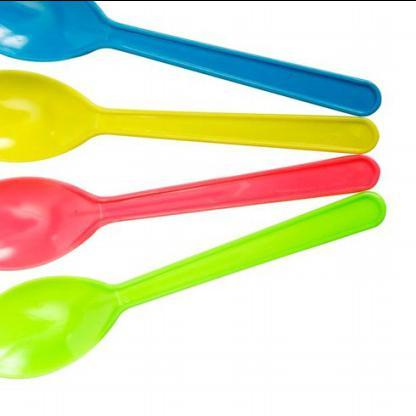Others: (0, 0, 388, 390)
